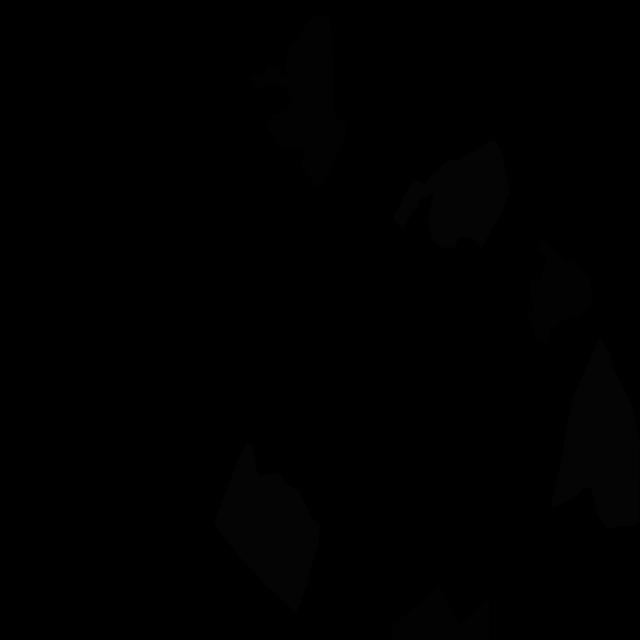cardboard: (249, 14, 348, 188), (528, 239, 592, 344), (391, 586, 489, 640)
soft_plastic: (214, 442, 320, 613), (551, 337, 640, 528), (393, 140, 510, 248)
